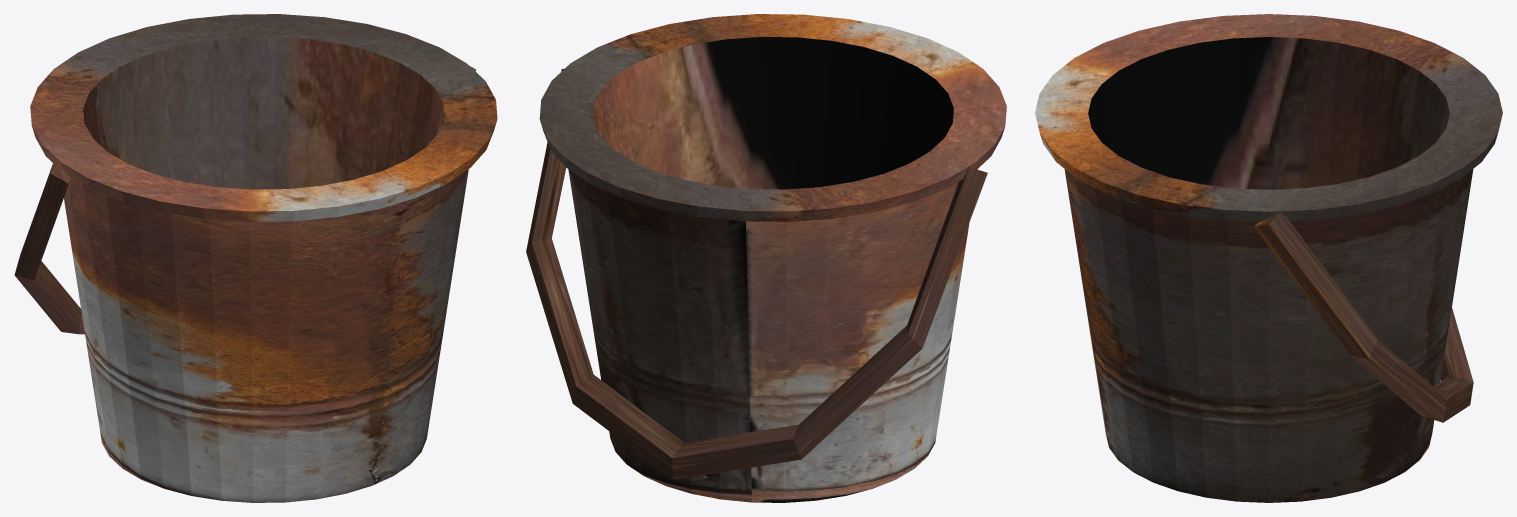
File: Kova.fbx
The picture shows the model from 3 angles, left to right: view 1: azimuth 30°, elevation 25°; view 2: azimuth 150°, elevation 25°; view 3: azimuth 270°, elevation 25°; orthographic projection.
Parts seen in each view (by area): view 1: Torus; view 2: Torus; view 3: Torus.
Boxes of the visible parts, x1,y1,x2,y2 form: Torus: (14,14,497,502); Torus: (526,14,1006,502); Torus: (1035,14,1502,502).
Size of the model in its own units: 128 by 92.12 by 122.
Materials: 2 (2 with a texture image).
